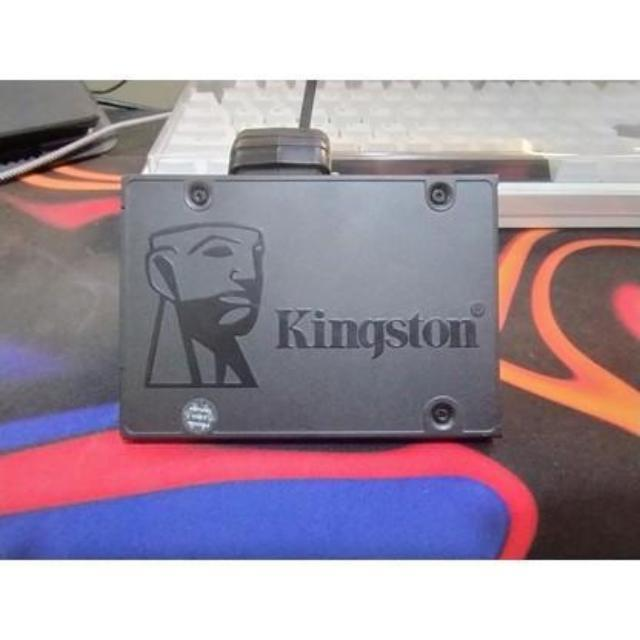DISK: (117, 166, 500, 444)
